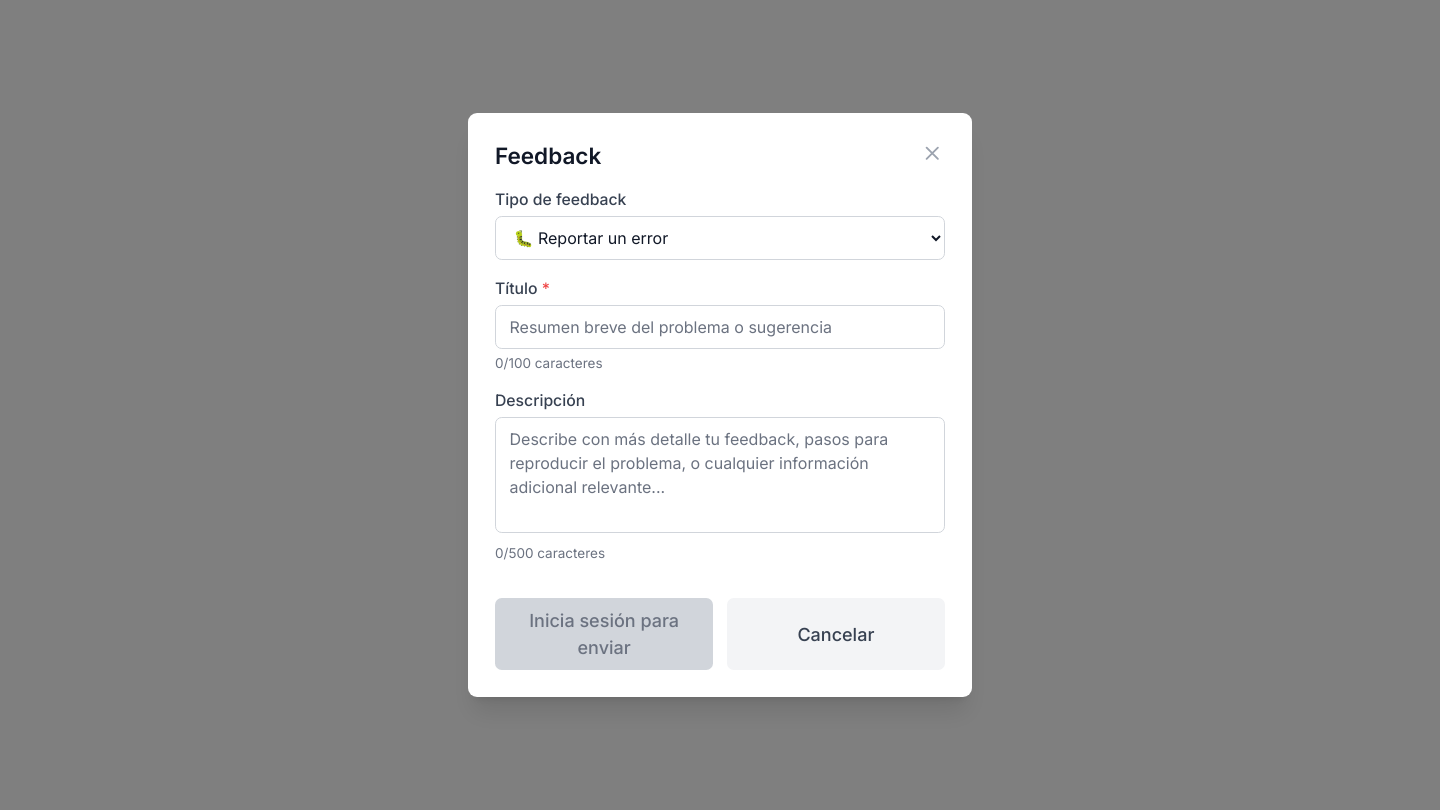
Test: FeedbackModal › Form interactions › should show character count for title field
The image size is (1440, 810).
Step 1. Type "Test" into the field labelled "Título *" → (720, 327), box [495,305,945,349]
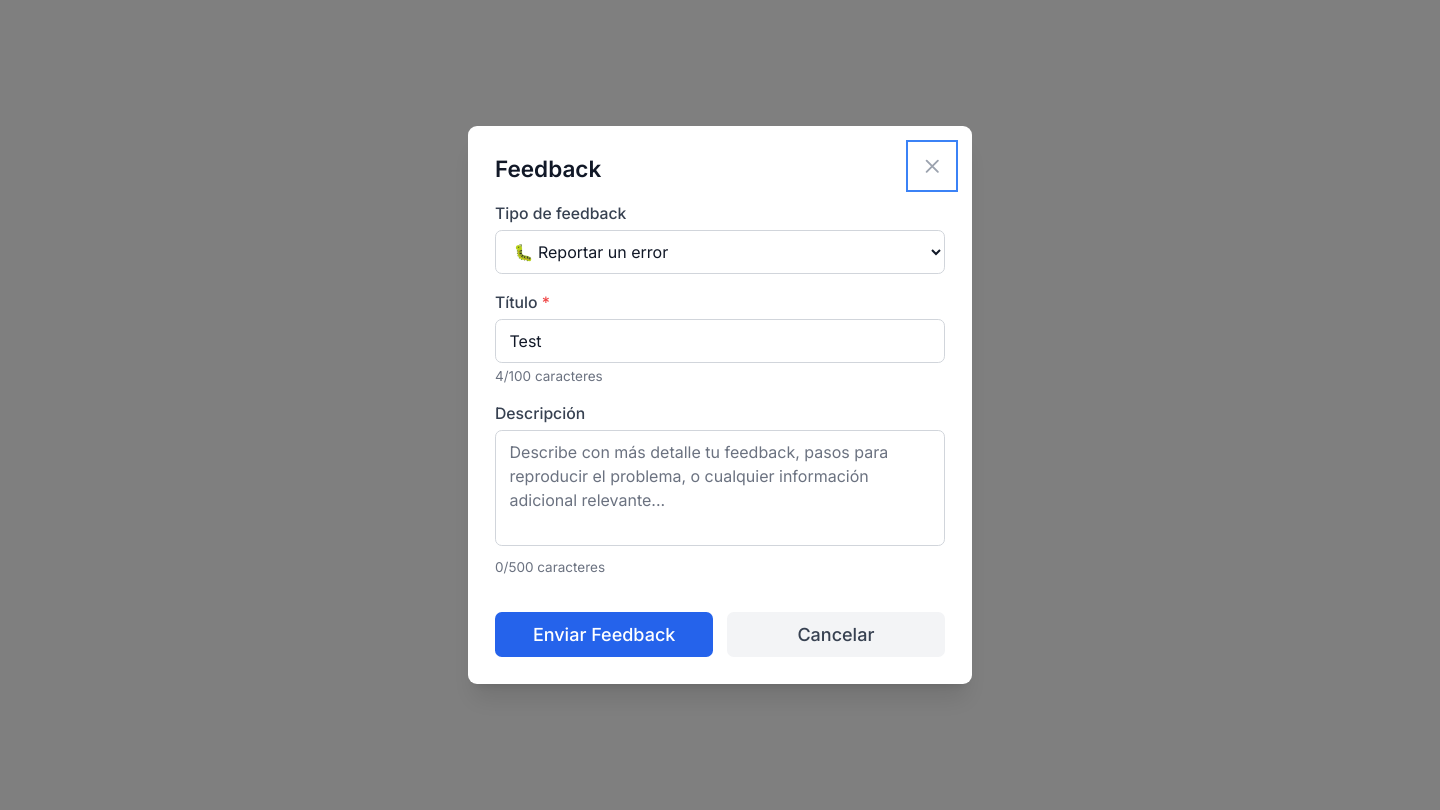
Expected: the text "4/100 caracteres" is shown, [495,368,603,384]
